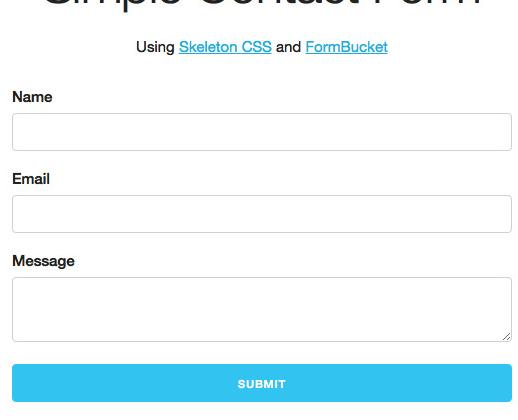button: (9, 361, 514, 406)
field: (9, 274, 513, 345), (9, 111, 513, 153), (10, 193, 514, 234)
field_with_label: (6, 255, 514, 348), (7, 171, 516, 237), (7, 92, 515, 157)
